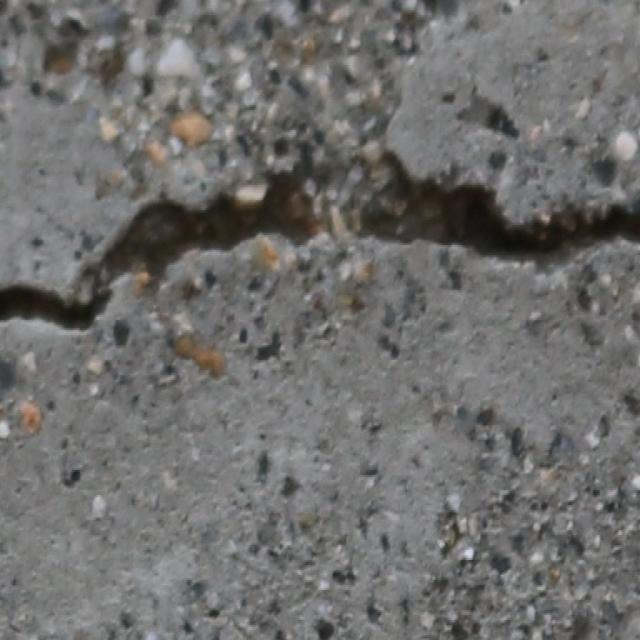crack: (1, 146, 639, 336)
